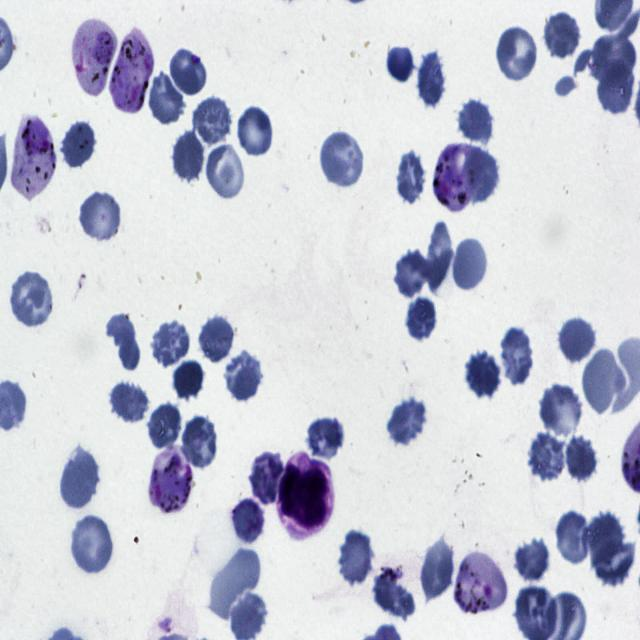difficult: (149, 447, 195, 516)
leukocyte: (274, 451, 335, 540)
red blood cell: (206, 548, 261, 622), (582, 348, 628, 418), (69, 514, 115, 577), (591, 521, 634, 588), (8, 270, 54, 332), (59, 445, 101, 511), (538, 380, 584, 439), (319, 132, 365, 189), (591, 31, 637, 88), (495, 25, 540, 83), (419, 533, 456, 603), (77, 189, 123, 244), (205, 144, 248, 202), (598, 56, 638, 117), (458, 146, 500, 204), (336, 529, 376, 589), (148, 68, 187, 128), (554, 508, 592, 568), (500, 326, 536, 387), (149, 318, 192, 369), (192, 97, 234, 148), (304, 413, 346, 464), (387, 395, 429, 446), (373, 567, 415, 618), (181, 414, 219, 470), (168, 46, 208, 99), (452, 237, 489, 294), (415, 51, 450, 111), (237, 104, 275, 159), (526, 433, 564, 488), (223, 350, 263, 402), (558, 315, 598, 367), (248, 450, 285, 506), (456, 97, 496, 148), (146, 399, 183, 454), (106, 312, 140, 371), (544, 10, 582, 62), (108, 378, 149, 426), (61, 119, 98, 172), (394, 247, 431, 300), (229, 496, 267, 547), (171, 127, 205, 184), (426, 220, 452, 294), (464, 350, 502, 400), (396, 151, 429, 208), (516, 532, 553, 582), (565, 430, 598, 485), (382, 40, 419, 89), (172, 356, 208, 406), (200, 314, 236, 363), (404, 293, 438, 344)
trophozoite: (9, 114, 56, 202), (108, 29, 154, 116), (454, 550, 507, 617), (72, 18, 116, 96), (434, 140, 469, 214)
